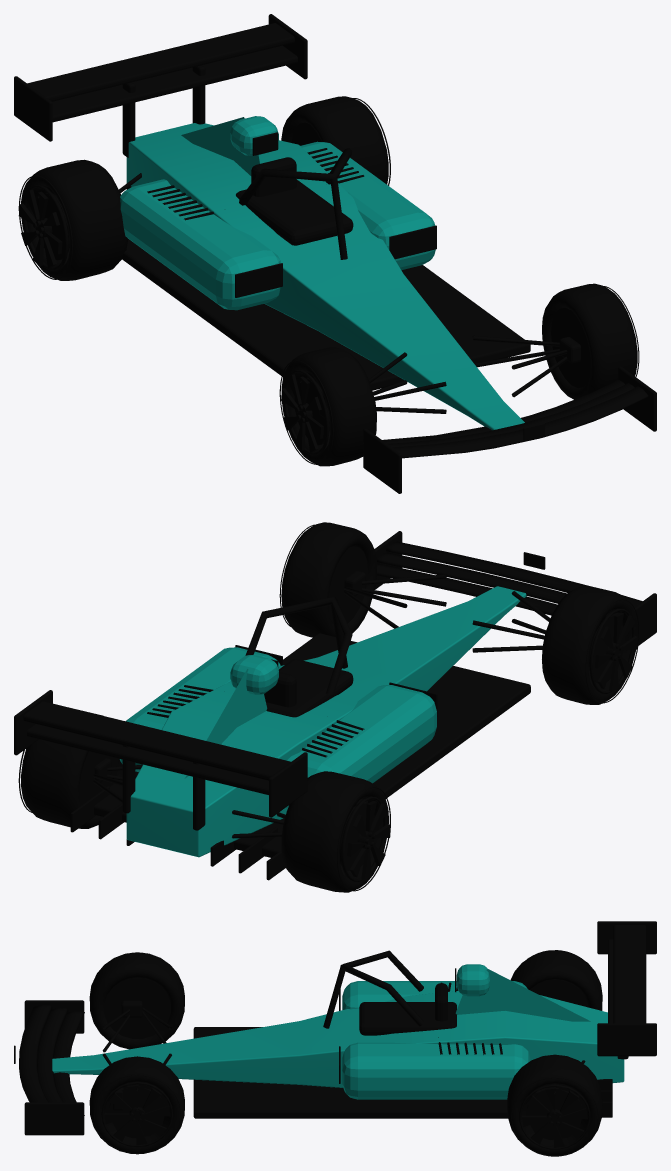
The picture shows the model from 3 angles, top to bottom: view 1: azimuth 30°, elevation 25°; view 2: azimuth 150°, elevation 25°; view 3: azimuth 270°, elevation 25°; orthographic projection. The views are drawn at different scales.
Parts seen in each view (by area): view 1: chassis.001__Vehicle detail atlas, chassis.001__Automotive clearcoat, wheel_RL.001__Vehicle detail atlas, wheel_FL.001__Vehicle detail atlas, wheel_FR.001__Vehicle detail atlas, wheel_RR.001__Vehicle detail atlas; view 2: chassis.001__Vehicle detail atlas, chassis.001__Automotive clearcoat, wheel_RL.001__Vehicle detail atlas, wheel_FL.001__Vehicle detail atlas, wheel_FR.001__Vehicle detail atlas, wheel_RR.001__Vehicle detail atlas; view 3: chassis.001__Automotive clearcoat, chassis.001__Vehicle detail atlas, wheel_RR.001__Vehicle detail atlas, wheel_FR.001__Vehicle detail atlas, wheel_FL.001__Vehicle detail atlas, wheel_RL.001__Vehicle detail atlas.
Part boxes in pixels (box(x1,y1,x2,y2)): chassis.001__Vehicle detail atlas: box(14, 14, 656, 493); chassis.001__Automotive clearcoat: box(120, 116, 524, 430); wheel_RL.001__Vehicle detail atlas: box(18, 159, 128, 280); wheel_FL.001__Vehicle detail atlas: box(279, 347, 376, 466); wheel_FR.001__Vehicle detail atlas: box(542, 283, 639, 399); wheel_RR.001__Vehicle detail atlas: box(281, 96, 390, 185); chassis.001__Vehicle detail atlas: box(14, 531, 656, 880); chassis.001__Automotive clearcoat: box(119, 586, 526, 857); wheel_RL.001__Vehicle detail atlas: box(281, 771, 390, 892); wheel_FL.001__Vehicle detail atlas: box(542, 586, 639, 704); wheel_FR.001__Vehicle detail atlas: box(279, 522, 376, 637); wheel_RR.001__Vehicle detail atlas: box(18, 712, 122, 828); chassis.001__Automotive clearcoat: box(52, 964, 624, 1099); chassis.001__Vehicle detail atlas: box(14, 921, 656, 1135); wheel_RR.001__Vehicle detail atlas: box(507, 1054, 602, 1156); wheel_FR.001__Vehicle detail atlas: box(89, 1056, 184, 1154); wheel_FL.001__Vehicle detail atlas: box(89, 952, 184, 1049); wheel_RL.001__Vehicle detail atlas: box(510, 950, 602, 1010).
Size of the model in its own units: 2.39 by 1.11 by 4.85.
2 materials, 1 textured.
